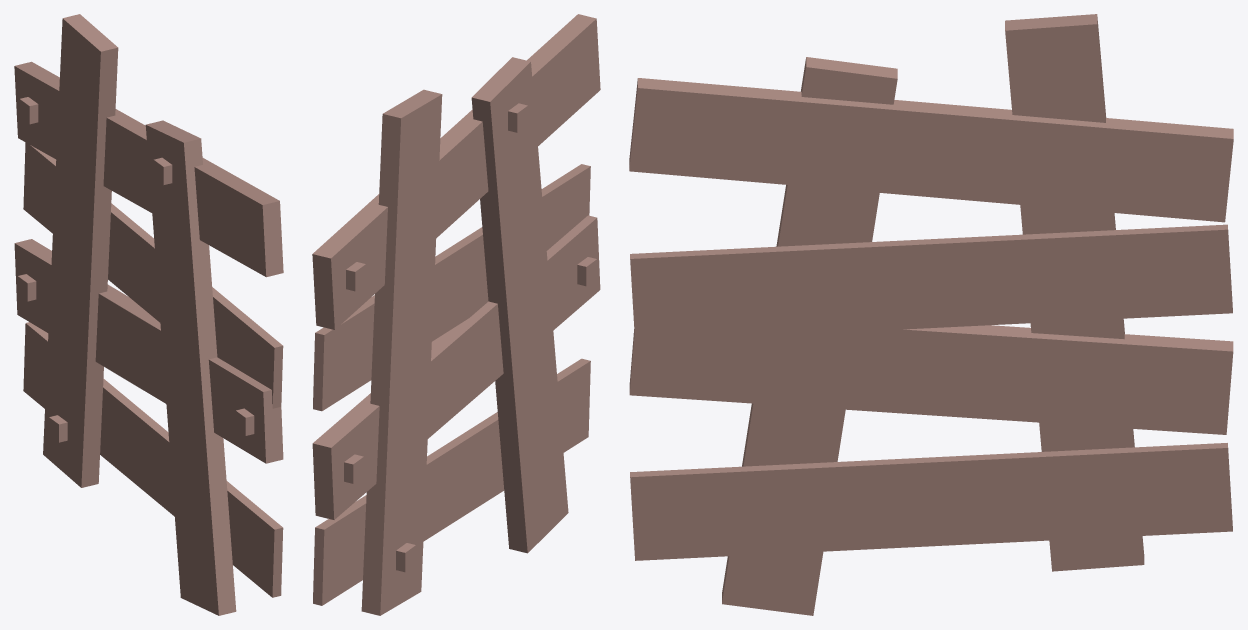
File: barricade-window-c.obj
The picture shows the model from 3 angles, left to right: view 1: azimuth 30°, elevation 25°; view 2: azimuth 150°, elevation 25°; view 3: azimuth 270°, elevation 25°; orthographic projection. The views are drawn at different scales.
Size of the model in its own units: 0.1 by 1.36 by 1.26.
